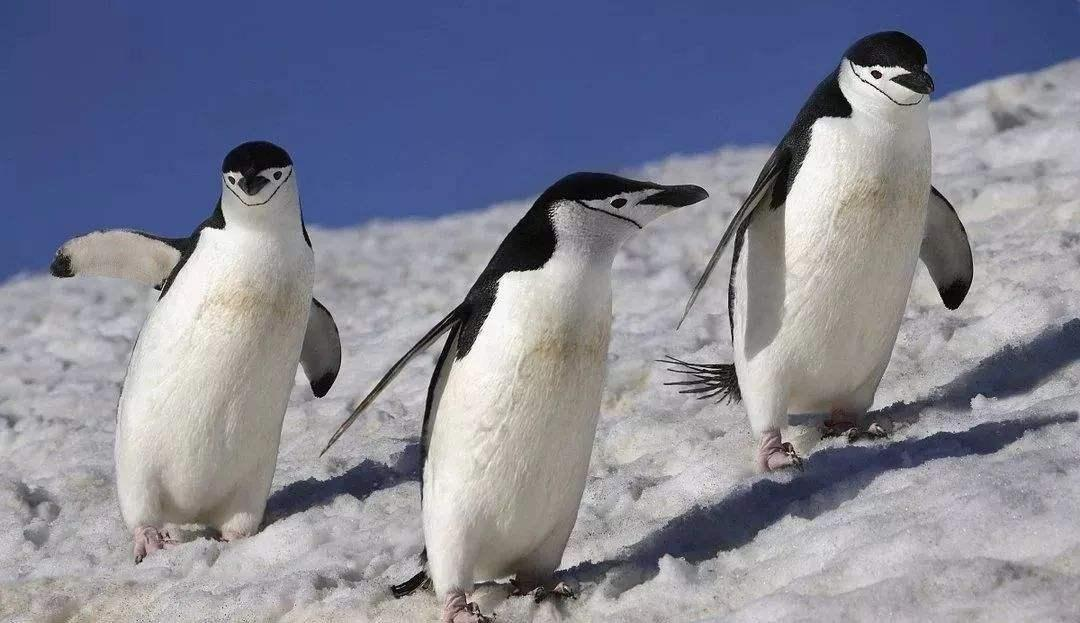Penguin: (321, 173, 706, 622), (655, 32, 972, 469), (51, 141, 342, 559)
